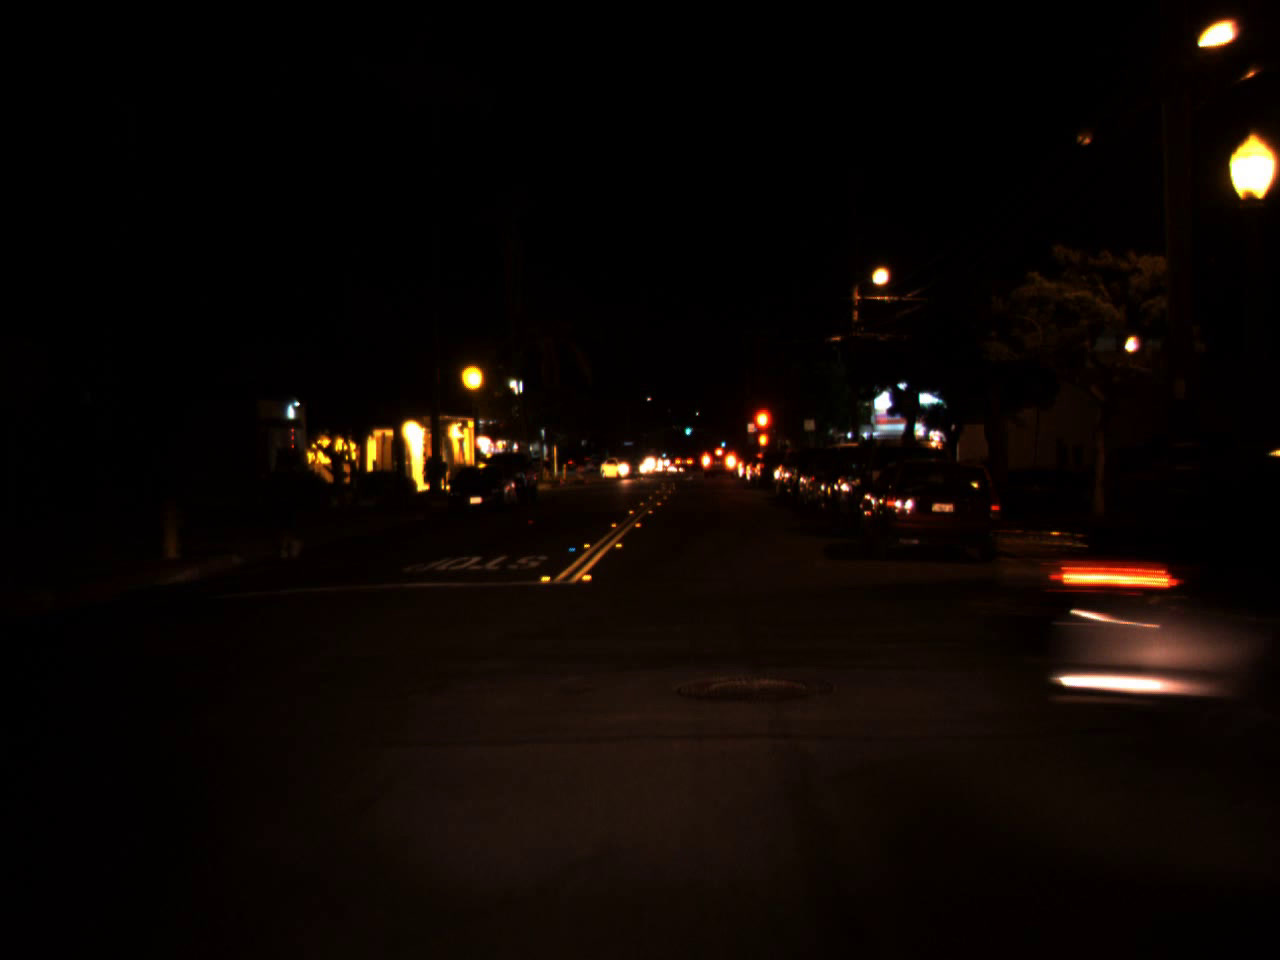go: (683, 419, 692, 437), (719, 436, 726, 448)
stop: (750, 405, 774, 459)
